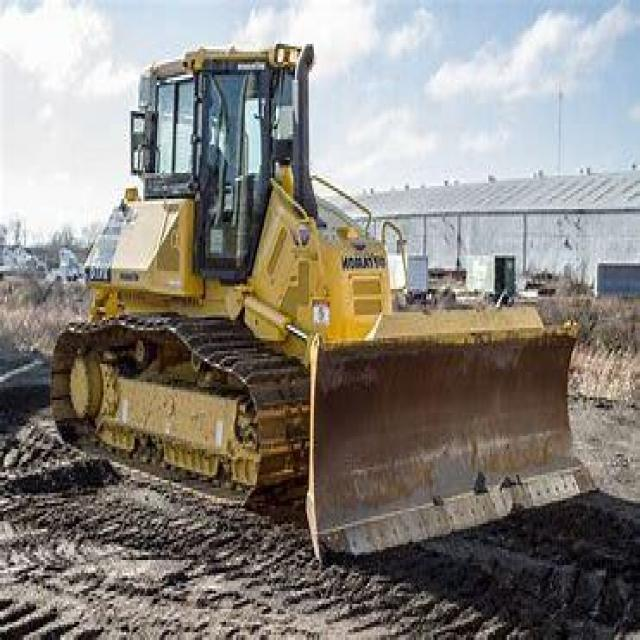Bulldozer: (36, 31, 602, 573)
